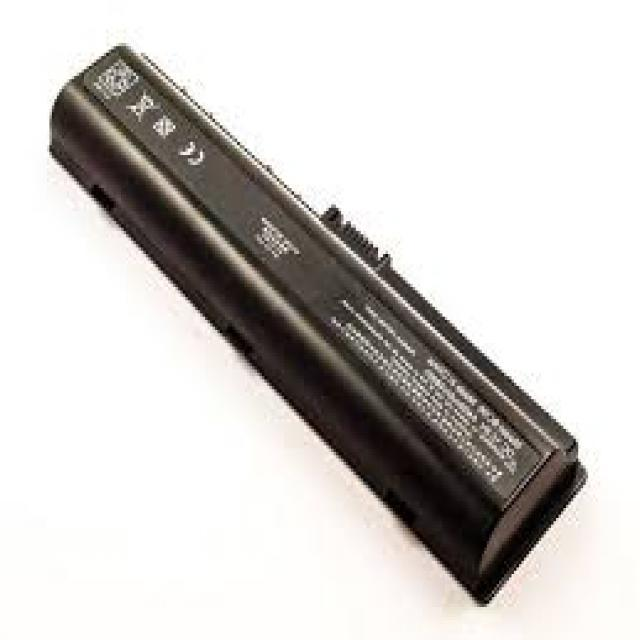battery: (42, 43, 590, 615)
